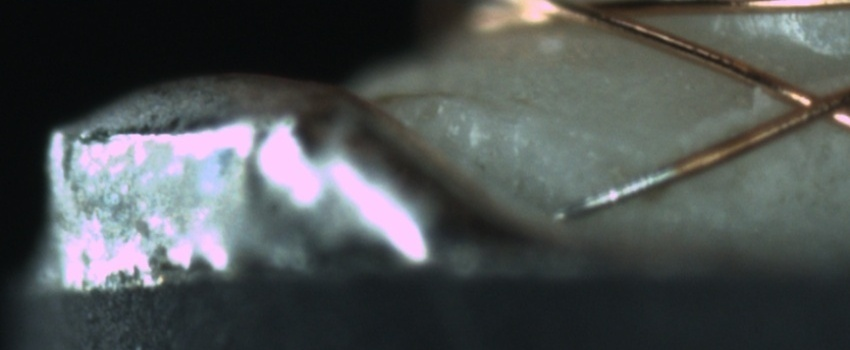CL: (756, 71, 850, 135)
TS: (551, 167, 680, 225)
